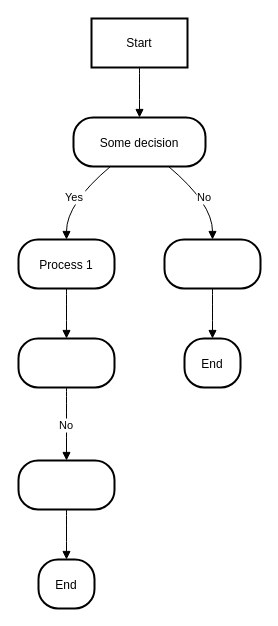
Some shapes in this 278 by 626 pixel diagram are drawn without their labels. The shapes that lost their labels are listed below. From the top down, each one's centre as x and y in pixels, then its label:
At (x=212, y=263): "Process 4".
At (x=66, y=362): "Process 2".
At (x=66, y=484): "Process 3".
